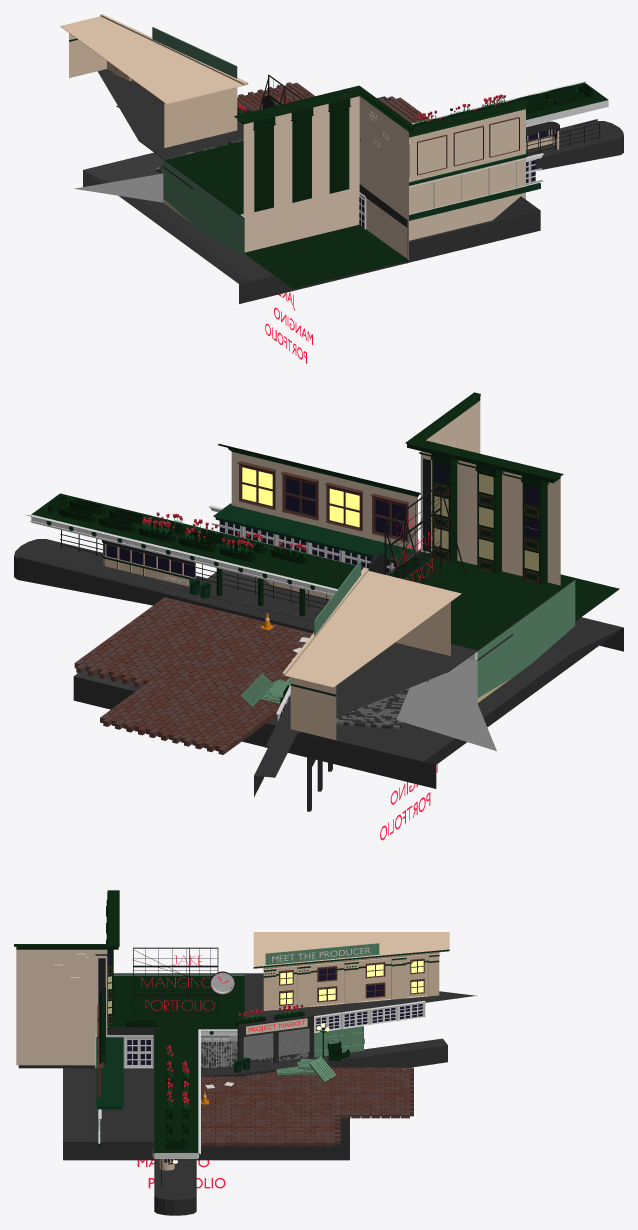
File: newPike.glb
3 views of the same model, one above another, from view 1: azimuth 30°, elevation 25°; view 2: azimuth 150°, elevation 25°; view 3: azimuth 270°, elevation 25° (orthographic). The views are drawn at different scales.
Visible parts, largest first — view 1: building2 bakeTwo, building1 bakeOne, building3 bakeThree, platform, mainBuilding, building2 windows bakeTwo, mainBuilding bakeFive, mainBuildingBackWall bakeThree, brickFloorBack, building1Balcony, meetTheProducer bakeThree, planters1 bakeFive (+6 smaller); view 2: brickFloorBack, platform, mainBuilding bakeFive, building3 bakeThree, building2 bakeTwo, mainBuilding, building2 windows bakeTwo, building1TopWindows bakeOne, building1 bakeOne, mainBuildingBackWall bakeThree, extender bakeOne, sidewalk bakeFour (+13 smaller); view 3: brickFloorBack, mainBuilding bakeFive, building2 bakeTwo, building3 bakeThree, platform, mainBuilding, frontSidewalk bakeThree, building3Windows bakeThree, garage bakeFive, building1Balcony, farmersMarket bakeFive, meetTheProducer bakeThree (+14 smaller).
Part boxes in pixels (left/top/right/bottom): building2 bakeTwo: left=234, top=85, right=416, bottom=288; building1 bakeOne: left=360, top=97, right=529, bottom=240; building3 bakeThree: left=60, top=14, right=248, bottom=147; platform: left=83, top=96, right=540, bottom=303; mainBuilding: left=74, top=69, right=623, bottom=263; building2 windows bakeTwo: left=253, top=97, right=351, bottom=212; mainBuilding bakeFive: left=166, top=81, right=608, bottom=216; mainBuildingBackWall bakeThree: left=163, top=159, right=244, bottom=256; brickFloorBack: left=237, top=82, right=428, bottom=123; building1Balcony: left=409, top=151, right=540, bottom=220; meetTheProducer bakeThree: left=152, top=27, right=237, bottom=78; planters1 bakeFive: left=478, top=83, right=593, bottom=113; brickFloorBack: left=74, top=597, right=312, bottom=754; platform: left=73, top=569, right=623, bottom=788; mainBuilding bakeFive: left=26, top=493, right=564, bottom=660; building3 bakeThree: left=282, top=567, right=461, bottom=740; building2 bakeTwo: left=405, top=392, right=619, bottom=621; mainBuilding: left=14, top=539, right=496, bottom=751; building2 windows bakeTwo: left=430, top=453, right=549, bottom=584; building1TopWindows bakeOne: left=237, top=461, right=408, bottom=542; building1 bakeOne: left=218, top=443, right=420, bottom=599; mainBuildingBackWall bakeThree: left=477, top=579, right=575, bottom=702; extender bakeOne: left=15, top=539, right=314, bottom=633; sidewalk bakeFour: left=51, top=546, right=324, bottom=629; brickFloorBack: left=201, top=1067, right=413, bottom=1146; mainBuilding bakeFive: left=107, top=962, right=412, bottom=1158; building2 bakeTwo: left=14, top=890, right=119, bottom=1065; building3 bakeThree: left=253, top=932, right=449, bottom=1010; platform: left=63, top=1028, right=349, bottom=1160; mainBuilding: left=18, top=973, right=476, bottom=1215; frontSidewalk bakeThree: left=201, top=1038, right=447, bottom=1078; building3Windows bakeThree: left=279, top=958, right=424, bottom=1005; garage bakeFive: left=243, top=1028, right=309, bottom=1064; building1Balcony: left=96, top=1037, right=123, bottom=1147; farmersMarket bakeFive: left=237, top=1015, right=313, bottom=1067; meetTheProducer bakeThree: left=265, top=943, right=379, bottom=964.
Size of the model in its own units: 41.44 by 23.65 by 50.59.
